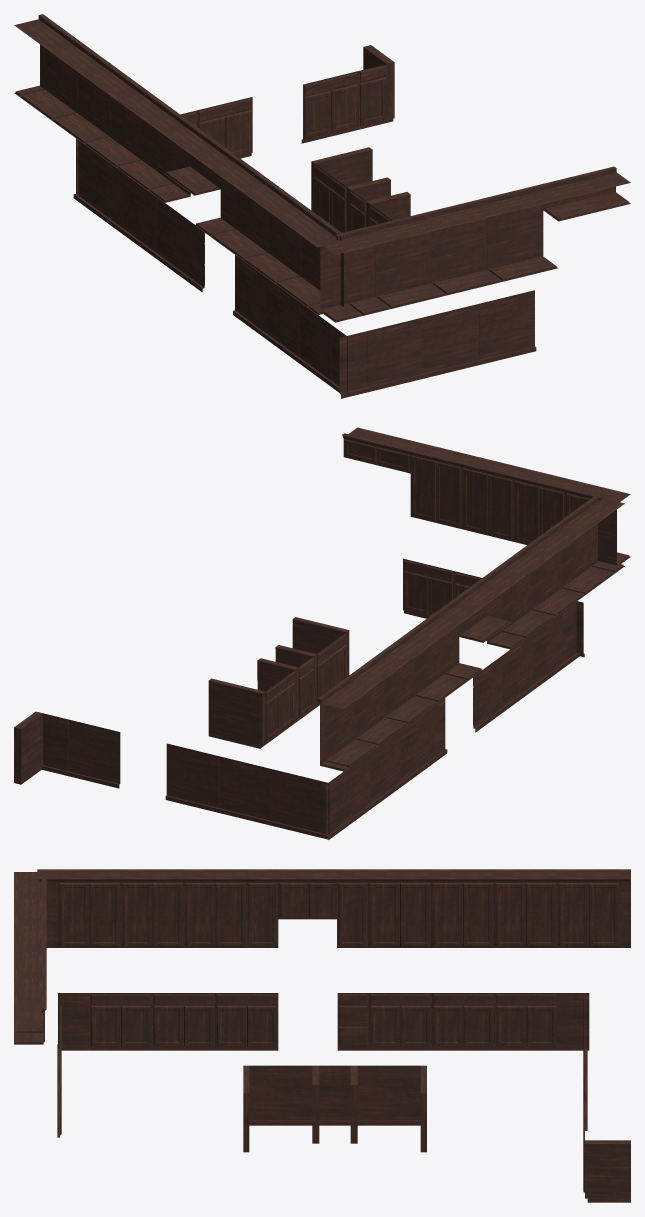
File: 2345_kitchen_cabinets_espresso.gltf
3 views of the same model, one above another, from view 1: azimuth 30°, elevation 25°; view 2: azimuth 150°, elevation 25°; view 3: azimuth 270°, elevation 25° (orthographic). The views are drawn at different scales.
Visible parts, largest first — view 1: Line23325; view 2: Line23325; view 3: Line23325.
Part boxes in pixels (box(x1,y1,x2,y2)): Line23325: box(14, 14, 630, 398); Line23325: box(14, 427, 630, 839); Line23325: box(14, 869, 630, 1202).
Size of the model in its own units: 6.4 by 2.93 by 9.8.
1 material, 1 textured.
